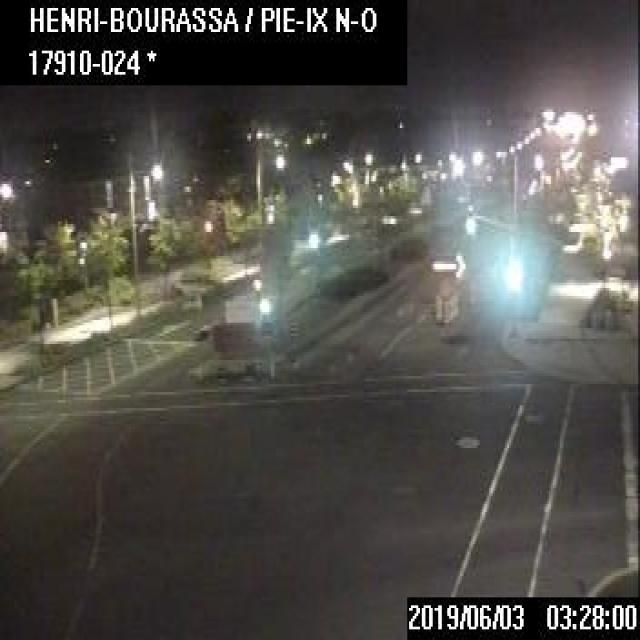construction: (193, 293, 276, 384), (431, 250, 465, 322), (434, 292, 441, 321), (442, 298, 449, 324), (451, 291, 457, 317)
